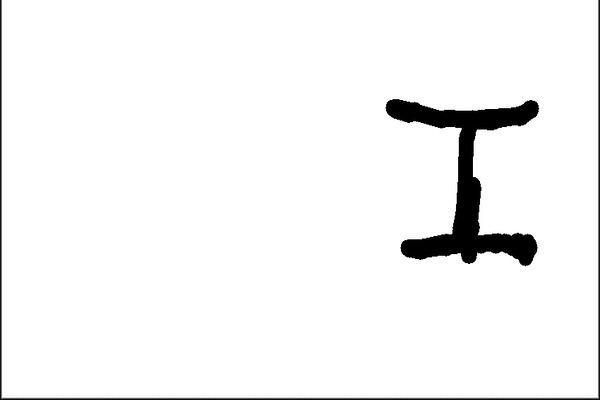i: (384, 86, 564, 274)
